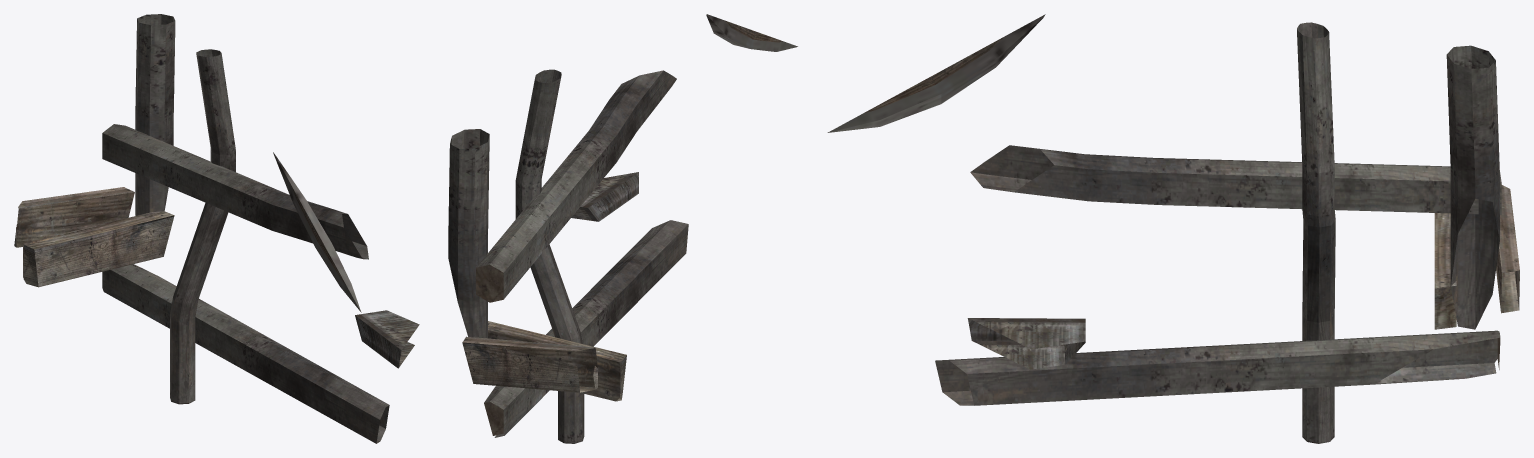
The model's file is Wagon3_8.fbx.
3 views of the same model, side by side, from view 1: azimuth 30°, elevation 25°; view 2: azimuth 150°, elevation 25°; view 3: azimuth 270°, elevation 25° (orthographic). The views are drawn at different scales.
Parts seen in each view (by area): view 1: SM_Wagon03_DM.008; view 2: SM_Wagon03_DM.008; view 3: SM_Wagon03_DM.008.
Part boxes in pixels (box(x1,y1,x2,y2)): SM_Wagon03_DM.008: box(14, 14, 419, 443); SM_Wagon03_DM.008: box(448, 14, 797, 443); SM_Wagon03_DM.008: box(827, 14, 1519, 443).
Bounding box in the file's own units: 5023 × 7333 × 10878.
